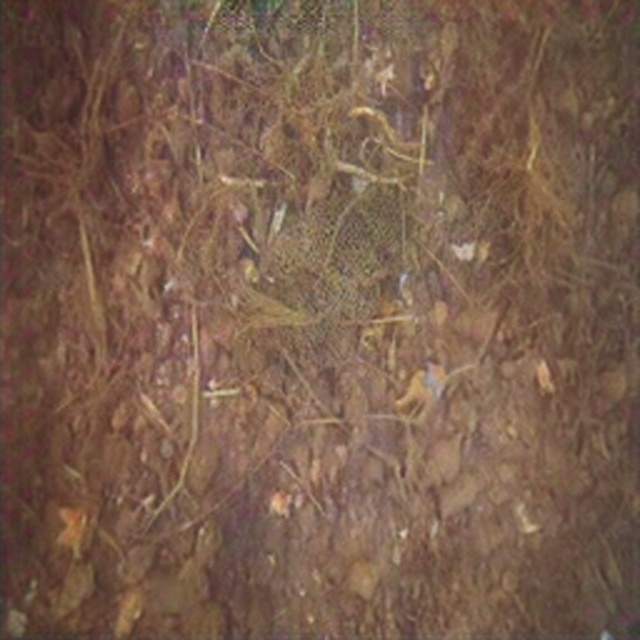mine: (216, 191, 405, 368)
